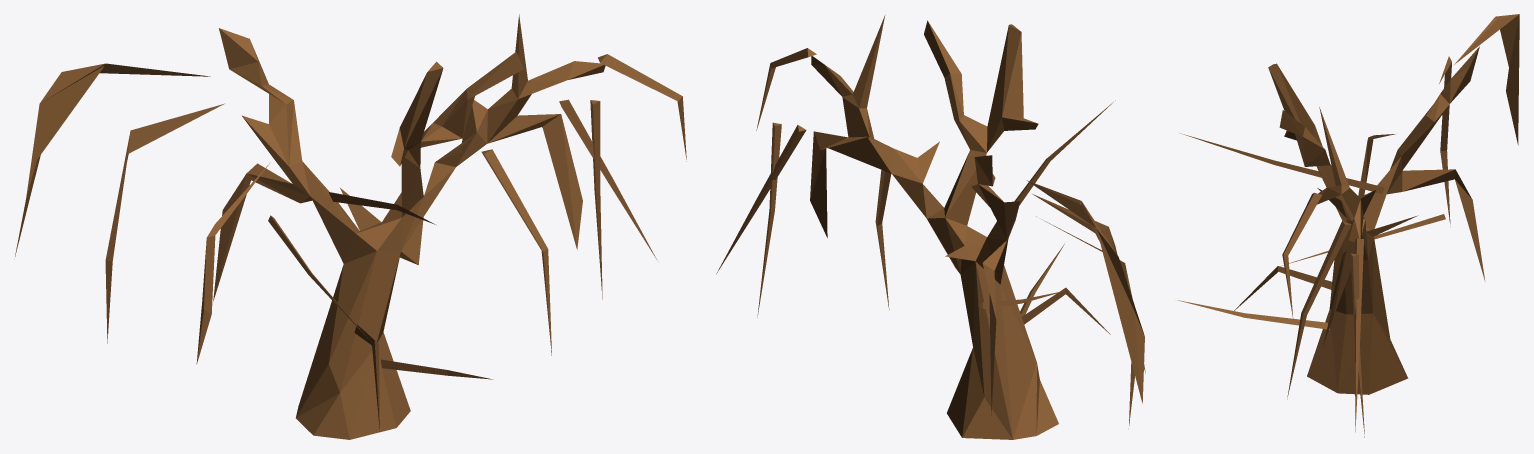
The model's file is cherry_weeping_bare_far.glb.
3 views of the same model, side by side, from view 1: azimuth 30°, elevation 25°; view 2: azimuth 150°, elevation 25°; view 3: azimuth 270°, elevation 25° (orthographic). The views are drawn at different scales.
Parts seen in each view (by area): view 1: cherry_weeping_bare_far; view 2: cherry_weeping_bare_far; view 3: cherry_weeping_bare_far.
Part boxes in pixels (bbox=[...]): cherry_weeping_bare_far: bbox=[15, 14, 686, 439]; cherry_weeping_bare_far: bbox=[716, 15, 1145, 439]; cherry_weeping_bare_far: bbox=[1178, 14, 1519, 437].
Size of the model in its own units: 8.86 by 5.87 by 5.59.
